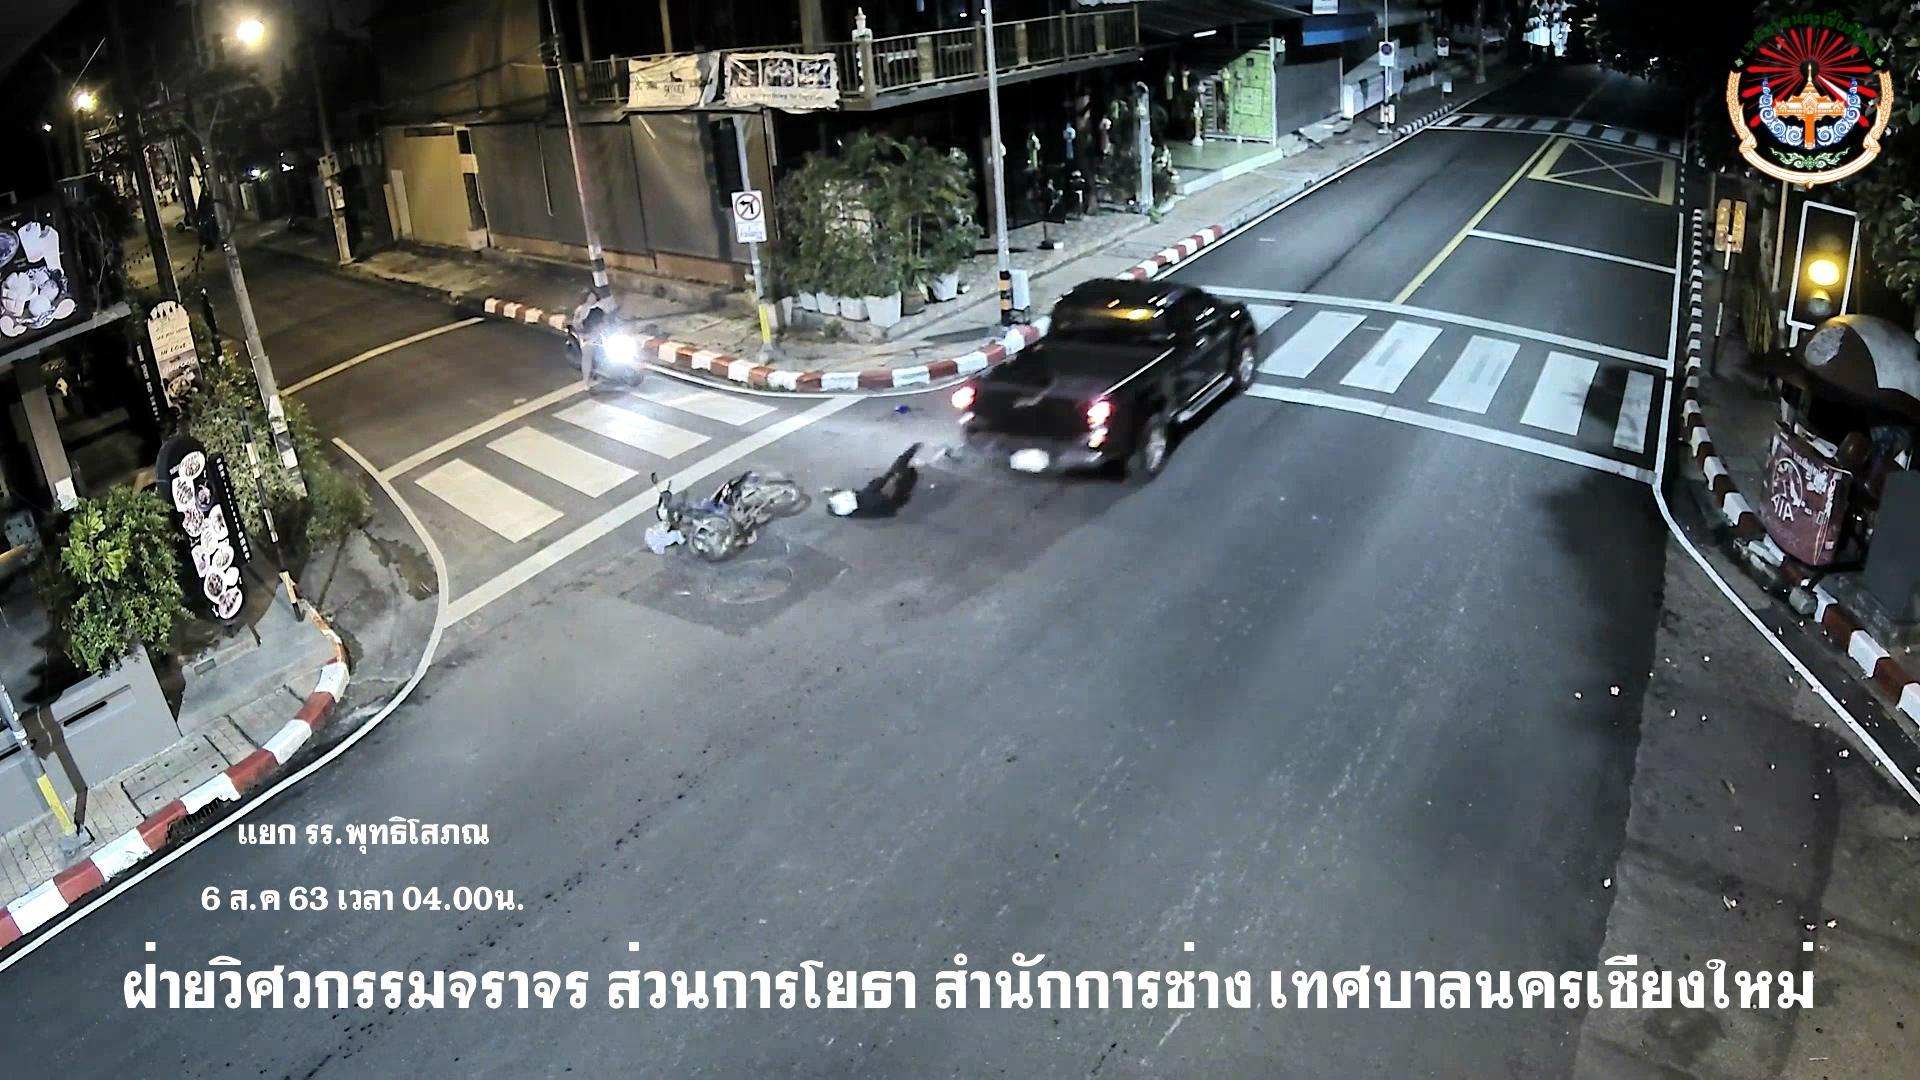accident: (825, 439, 931, 533)
